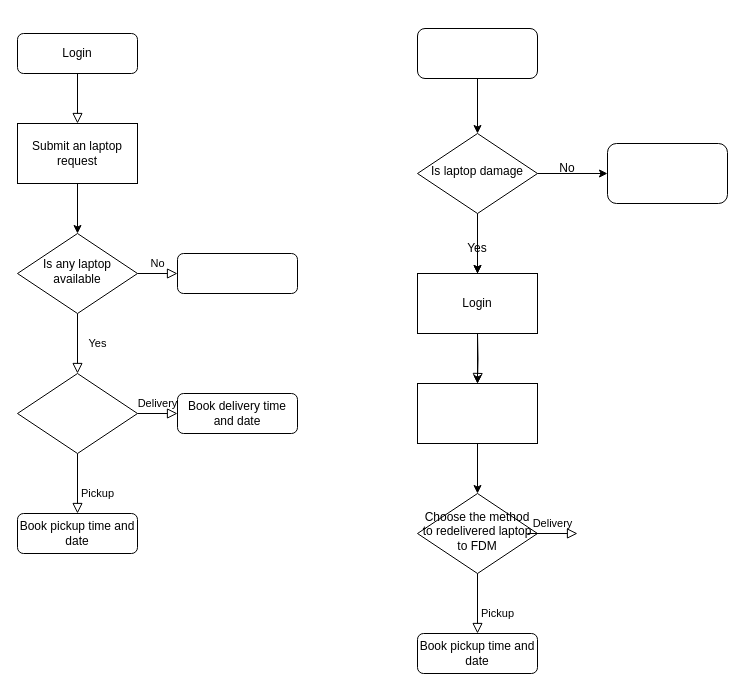
Some shapes in this 745 by 691 pixel diagram are drawn without their labels. The shapes that lost their labels are listed below. From the top down, each one's centre as x and y in pixels, then its label:
point 477,53: Receive laptop
point 667,173: Start work
point 237,273: Add to wait list
point 77,413: Select date for pickup / delivery
point 477,413: Submit an laptop damage
